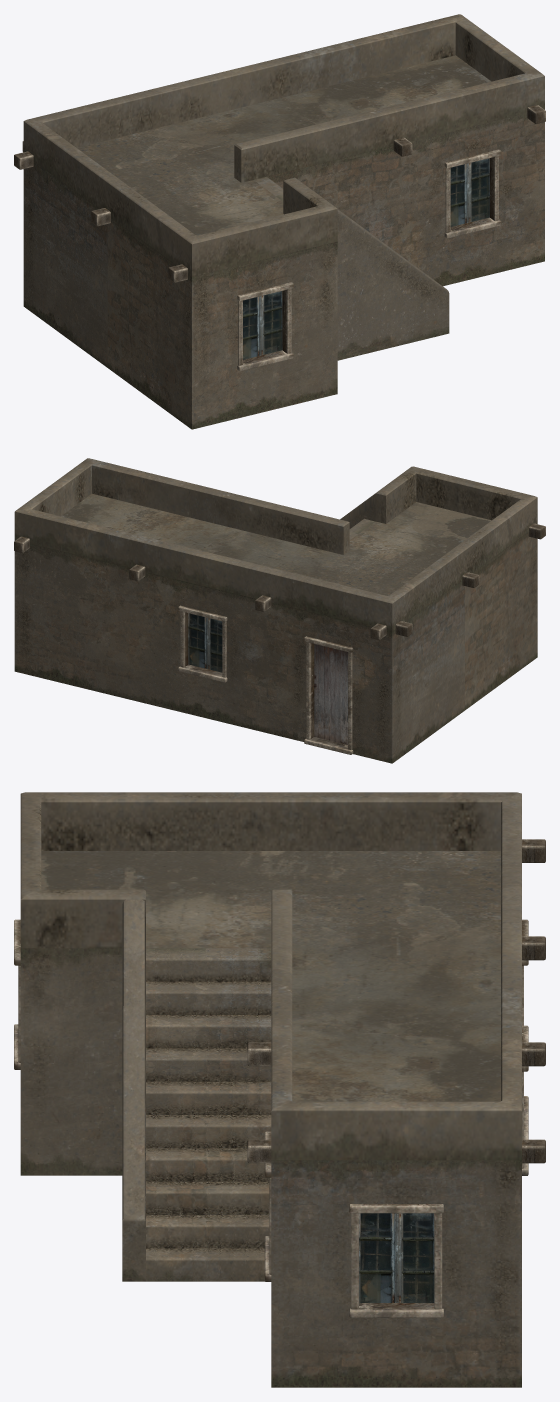
Rendered from House.fbx.
3 renders of one model, top to bottom at view 1: azimuth 30°, elevation 25°; view 2: azimuth 150°, elevation 25°; view 3: azimuth 270°, elevation 25°, orthographic. The views are drawn at different scales.
Parts seen in each view (by area): view 1: pCube34; view 2: pCube34; view 3: pCube34.
Part boxes in pixels (x1,y1,x2,y2): pCube34: [14, 14, 545, 429]; pCube34: [14, 458, 545, 763]; pCube34: [14, 792, 545, 1387].
Size of the model in its own units: 187 by 73.37 by 127.
